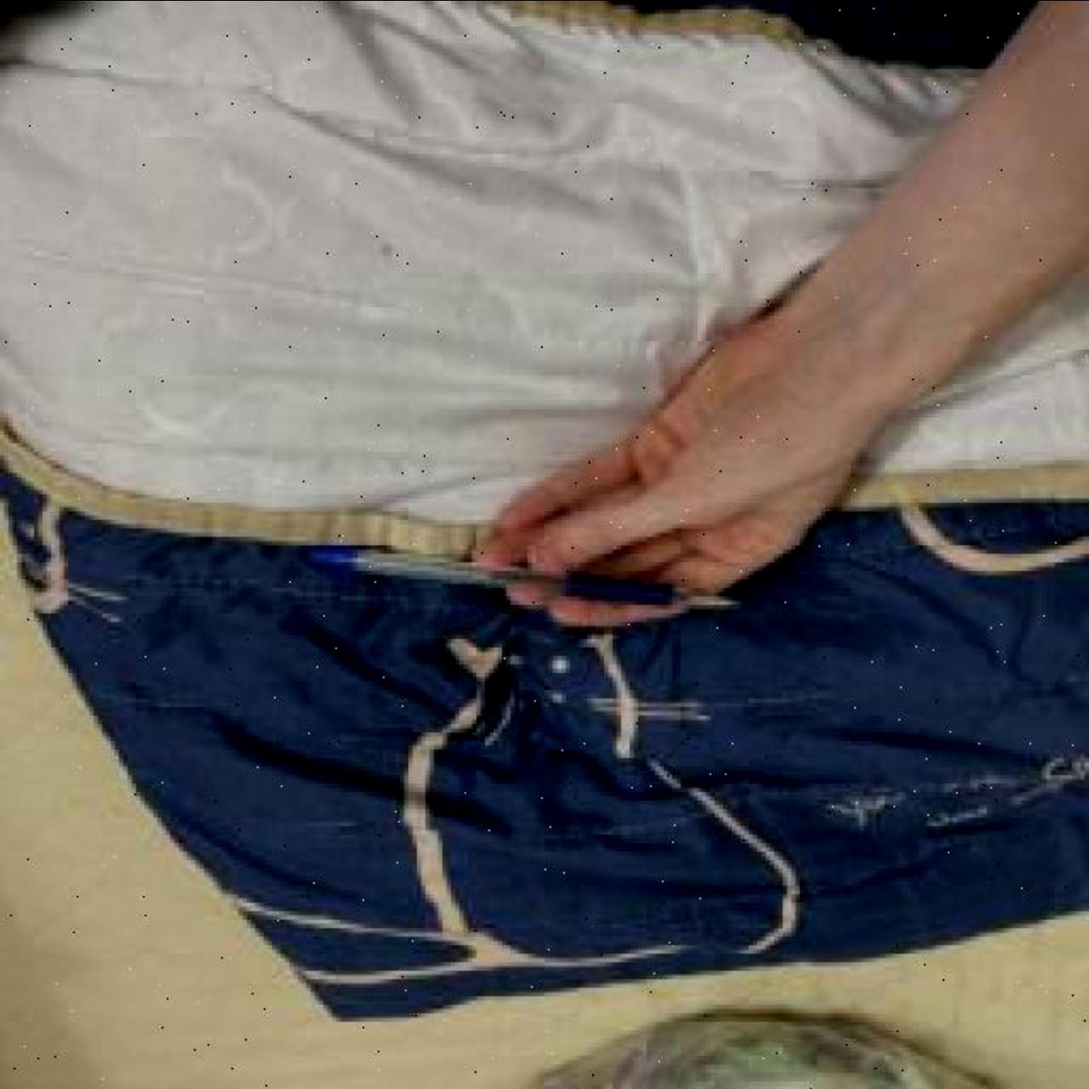pen: (306, 544, 740, 609)
